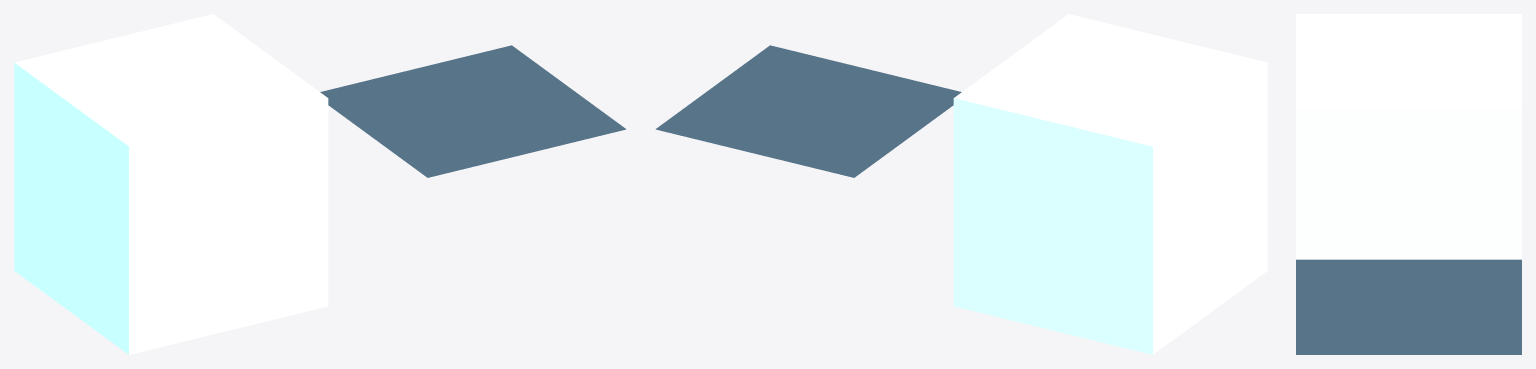
The model's file is image_none_factors.out_none.glb.
3 renders of one model, left to right at view 1: azimuth 30°, elevation 25°; view 2: azimuth 150°, elevation 25°; view 3: azimuth 270°, elevation 25°, orthographic.
Visible parts, largest first — view 1: Cube, Plane; view 2: Cube, Plane; view 3: Cube, Plane.
Part boxes in pixels (box(x1,y1,x2,y2)): Cube: box(14, 14, 328, 354); Plane: box(320, 45, 626, 177); Cube: box(953, 14, 1267, 354); Plane: box(655, 45, 961, 177); Cube: box(1296, 14, 1521, 259); Plane: box(1296, 259, 1521, 354).
Size of the model in its own units: 5 by 2 by 2.
